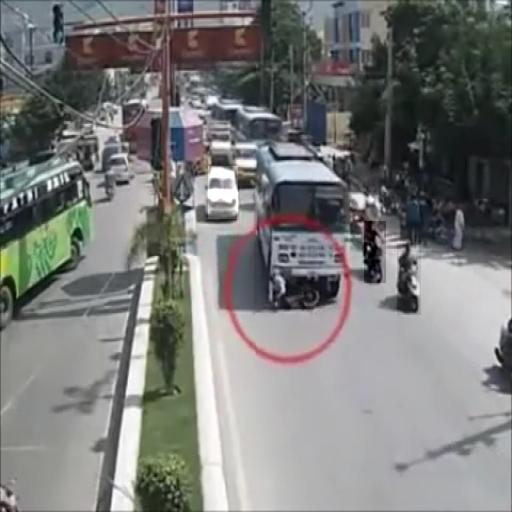小汽车: (208, 166, 238, 219)
小汽车撞自行车: (254, 142, 345, 309)
自行车: (397, 243, 421, 315), (364, 221, 386, 283)
